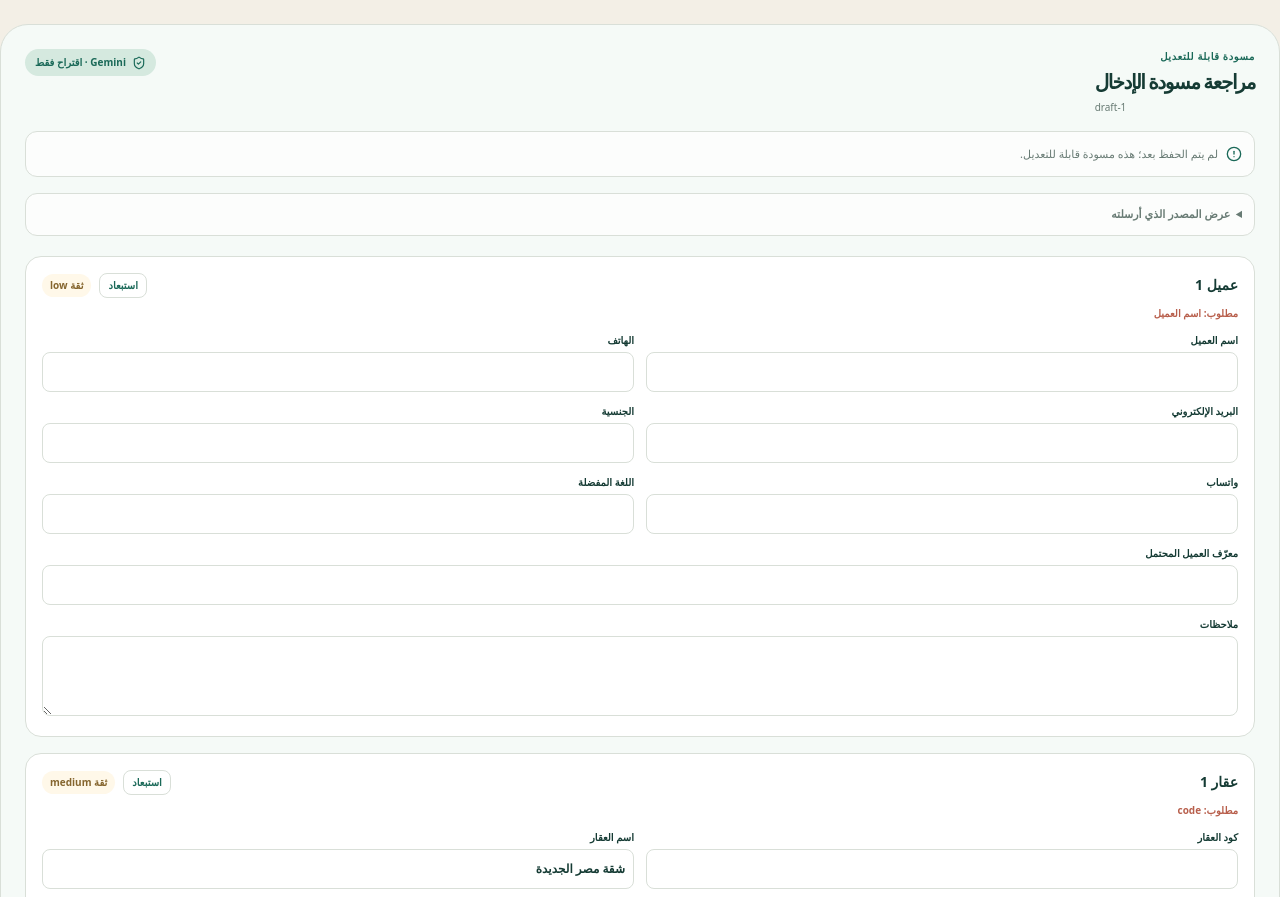
DataEntryReview › enables confirmation only after required fields are completed
Step 1. Type "أحمد" into the field named "اسم العميل 0" → (942,372), box x1=646 y1=352 x2=1238 y2=392
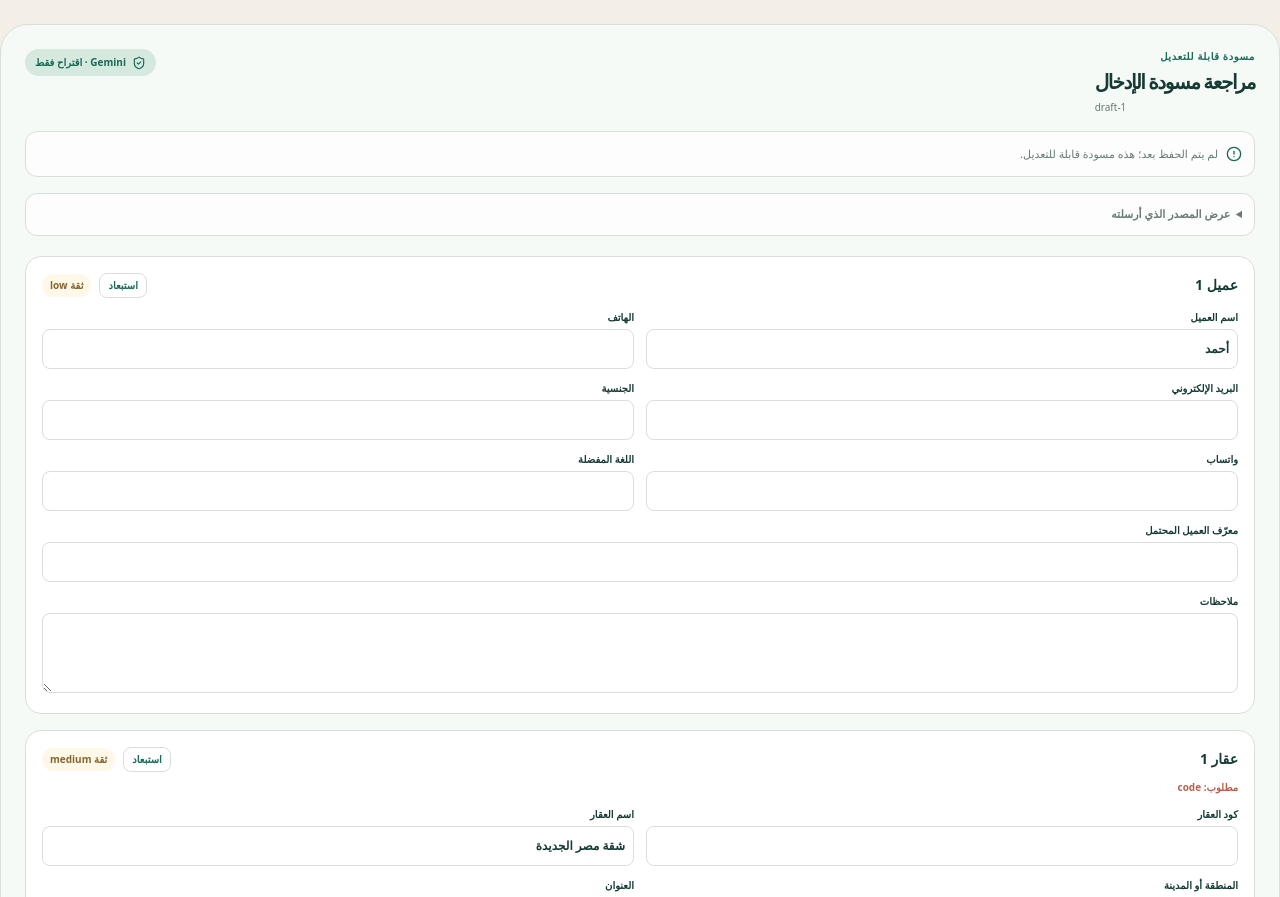
Step 2. Type "HEG-001" into the field named "كود العقار 0" → (942,846), box x1=646 y1=826 x2=1238 y2=866
(page scrolled)
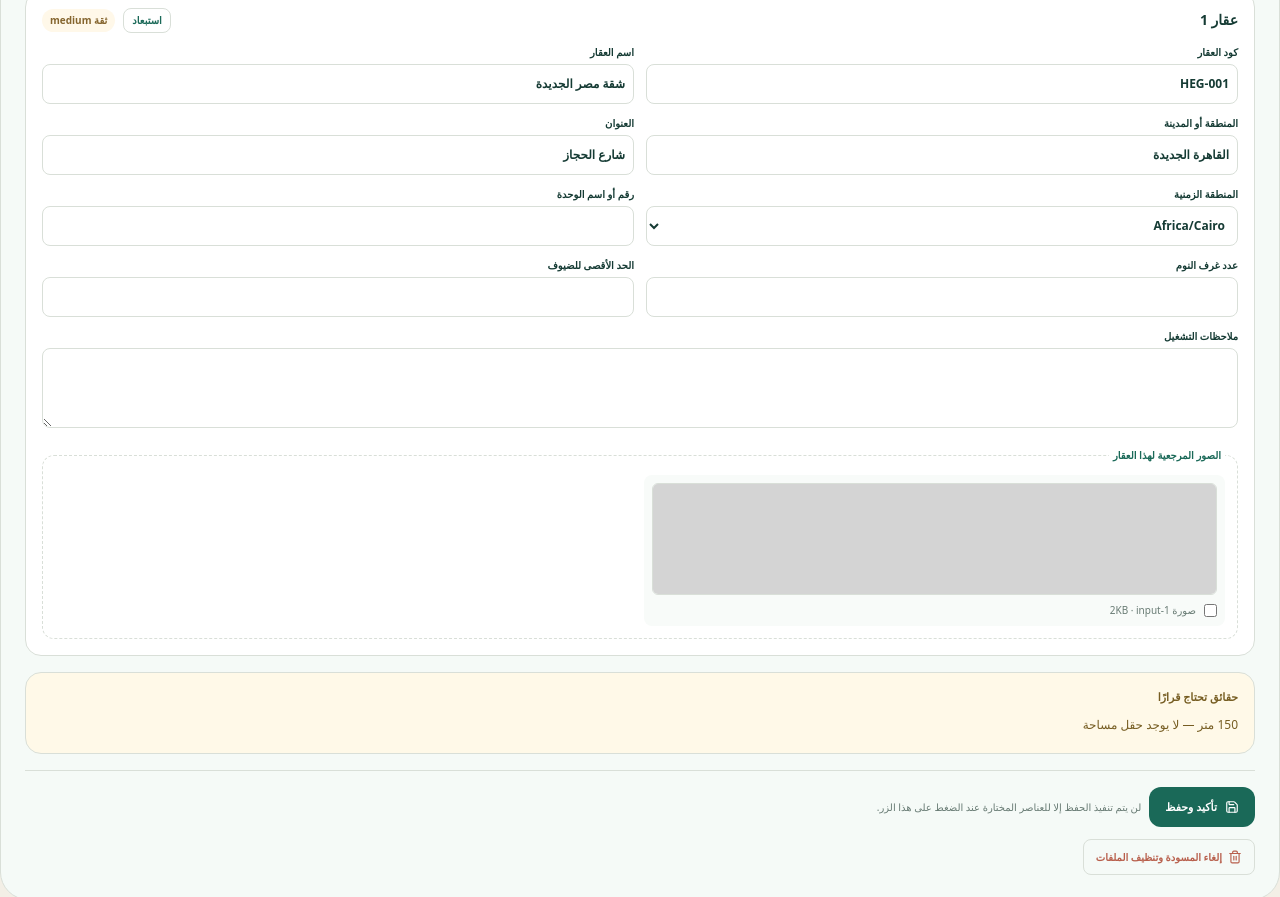
Now the button "تأكيد وحفظ" is enabled, box x1=1149 y1=787 x2=1255 y2=827
